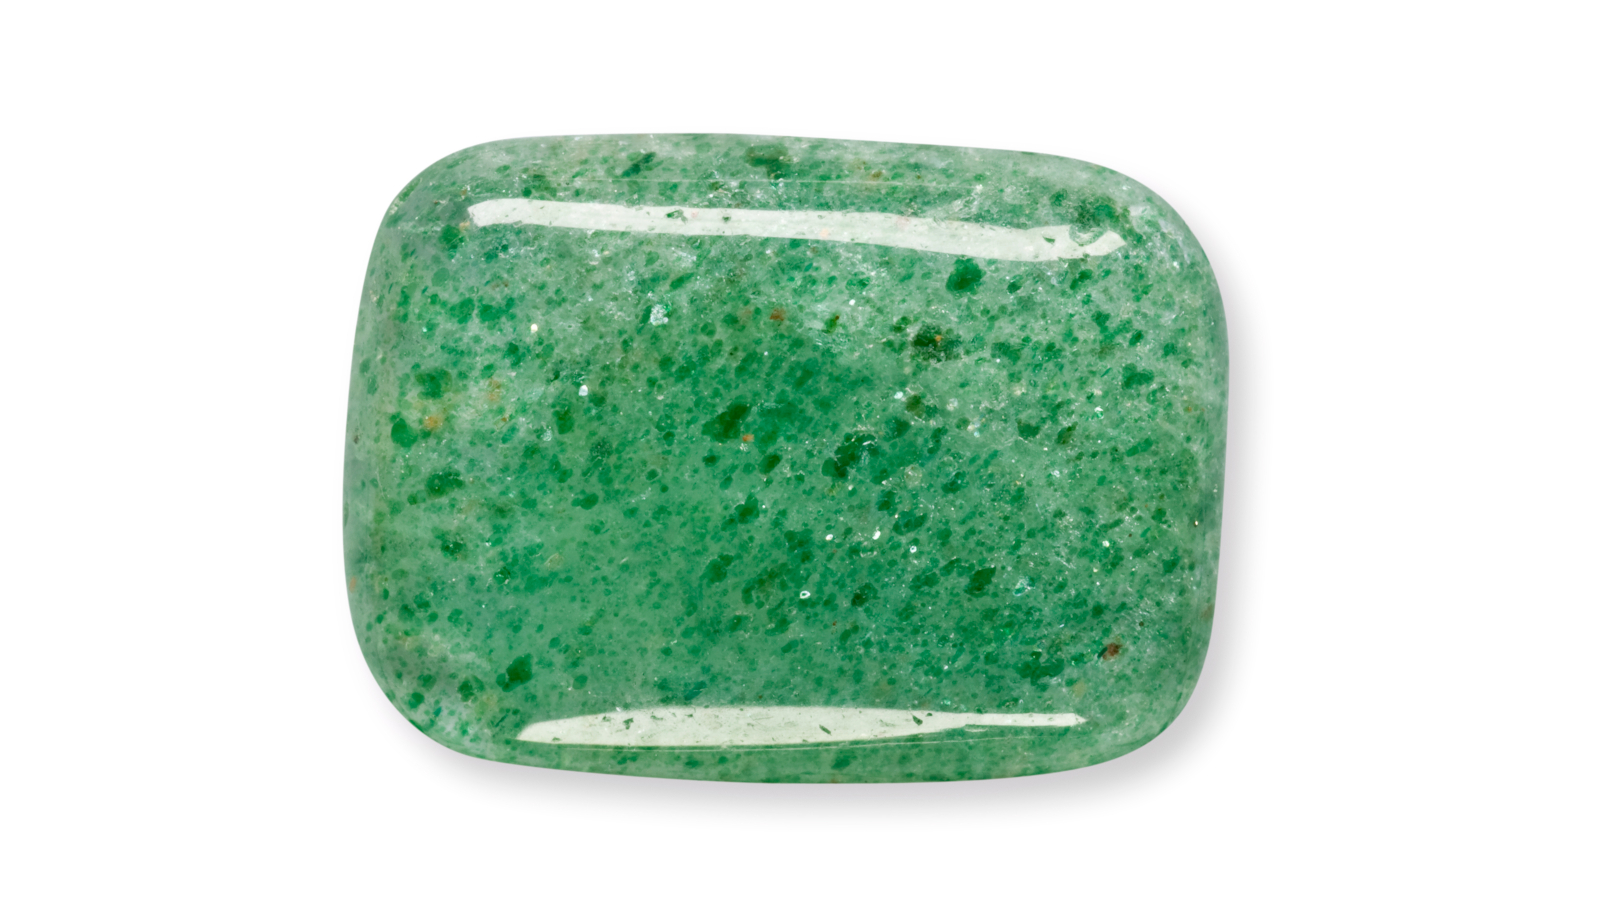Aventurine: (336, 135, 1236, 790)
